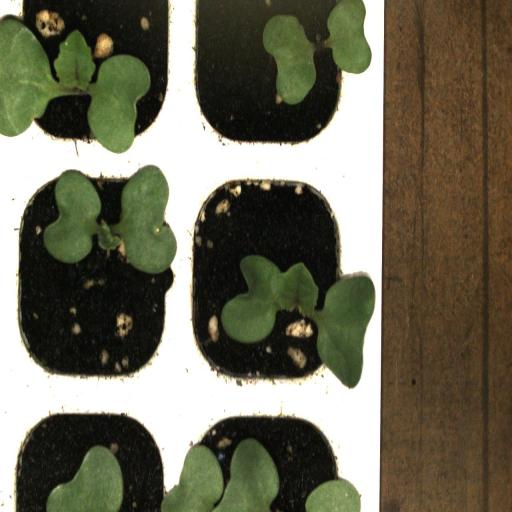Folha: (160, 438, 280, 512), (46, 445, 124, 512), (324, 0, 372, 74), (305, 479, 361, 512)
Germinacao: (182, 156, 366, 401), (5, 152, 186, 397), (184, 0, 362, 153), (12, 0, 185, 153)
